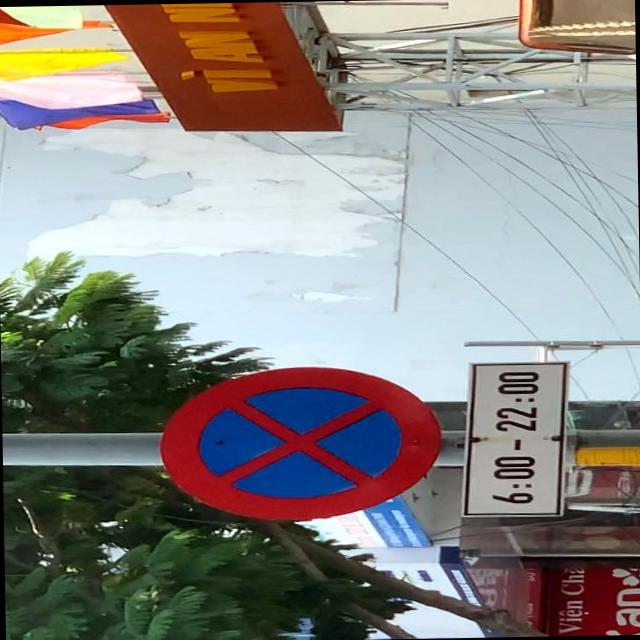P-130: (156, 365, 443, 523)
